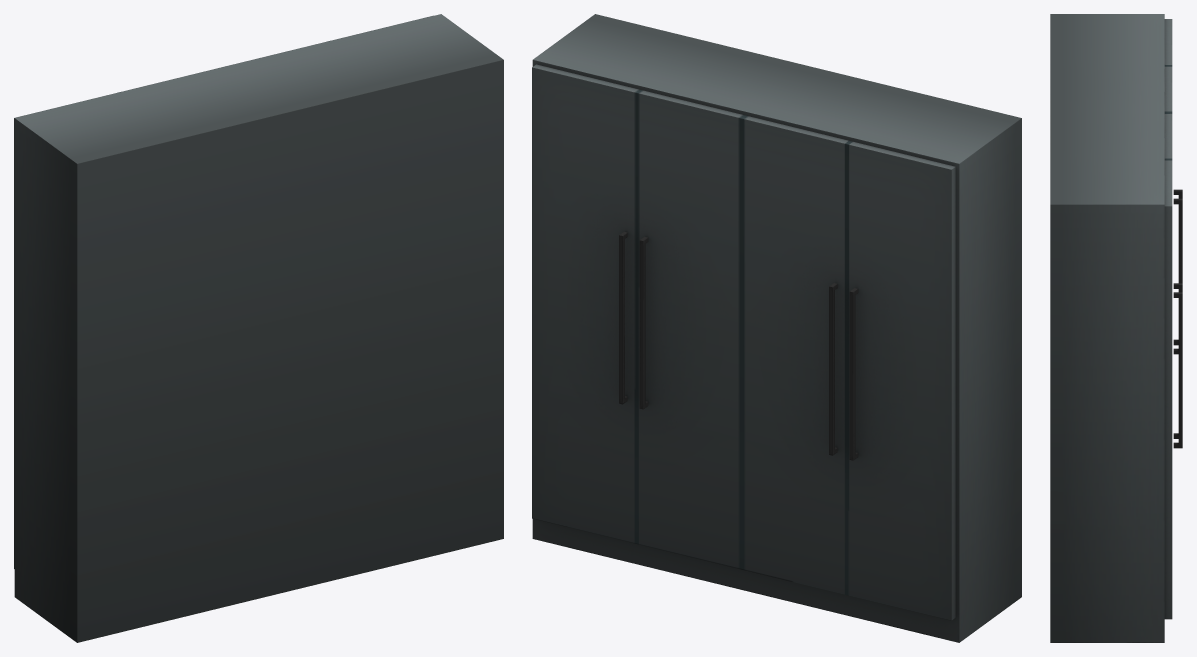
File: FUR0210052.fbx
The picture shows the model from 3 angles, left to right: view 1: azimuth 30°, elevation 25°; view 2: azimuth 150°, elevation 25°; view 3: azimuth 270°, elevation 25°; orthographic projection. The views are drawn at different scales.
Parts seen in each view (by area): view 1: smFUR0210052; view 2: smFUR0210052; view 3: smFUR0210052.
Part boxes in pixels (x1,y1,x2,y2): smFUR0210052: (14, 14, 503, 642); smFUR0210052: (532, 14, 1021, 642); smFUR0210052: (1050, 14, 1182, 642).
Bounding box in the file's own units: 193 × 207 × 56.57.
1 material, 1 textured.
